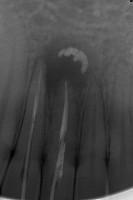Furcation Involvement: (38, 36, 100, 100)
